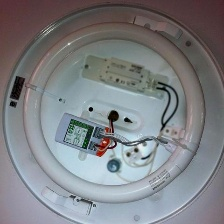light_bulb: (16, 18, 210, 209)
